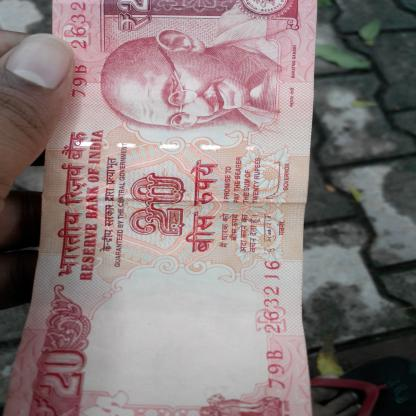Old20Front: (4, 0, 318, 416)
